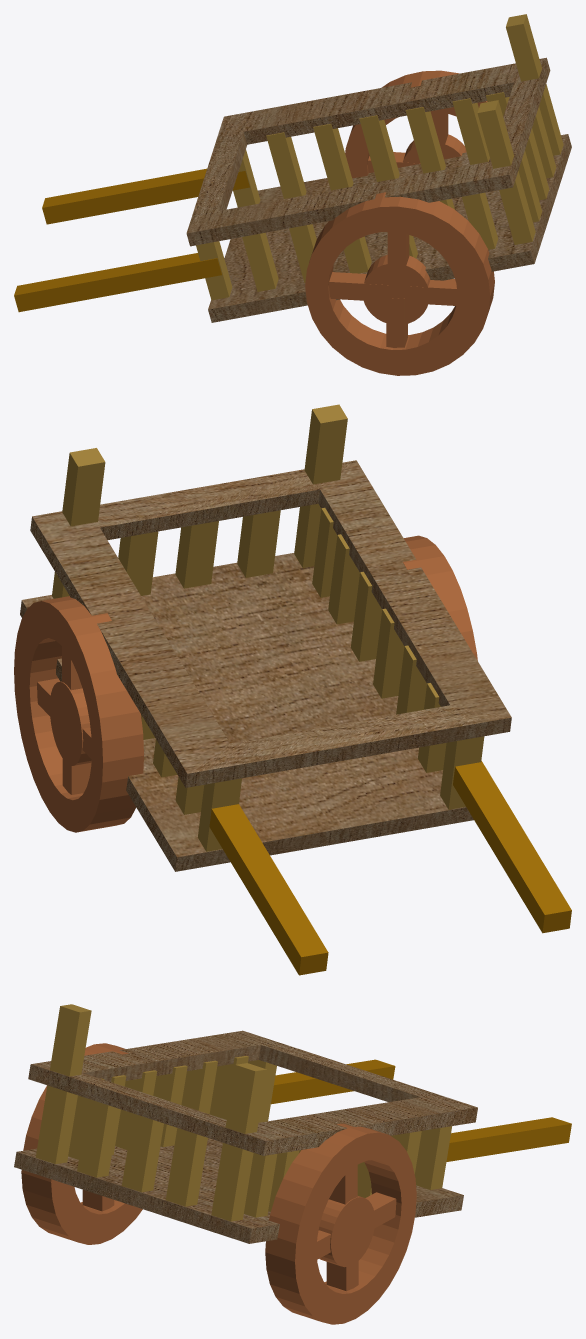
Rendered from GoldCart.fbx.
3 renders of one model, top to bottom at view 1: azimuth 30°, elevation 25°; view 2: azimuth 150°, elevation 25°; view 3: azimuth 270°, elevation 25°, orthographic. The views are drawn at different scales.
Parts seen in each view (by area): view 1: Cube, Cylinder.002, Cube.016, Cube.020; view 2: Cube, Cube.016, Cylinder.002, Cube.020; view 3: Cube, Cylinder.002, Cube.016, Cube.020.
Part boxes in pixels (x1=…): Cube: x1=186, y1=57, x2=571, y2=322; Cylinder.002: x1=305, y1=70, x2=494, y2=375; Cube.016: x1=196, y1=14, x2=563, y2=300; Cube.020: x1=14, y1=168, x2=249, y2=312; Cube: x1=20, y1=460, x2=511, y2=871; Cube.016: x1=52, y1=404, x2=484, y2=851; Cylinder.002: x1=14, y1=535, x2=477, y2=832; Cube.020: x1=209, y1=760, x2=571, y2=975; Cube: x1=14, y1=1030, x2=477, y2=1243; Cylinder.002: x1=21, y1=1043, x2=416, y2=1324; Cube.016: x1=35, y1=1004, x2=452, y2=1221; Cube.020: x1=271, y1=1059, x2=571, y2=1161.
Size of the model in its own units: 178 by 86.27 by 162.
